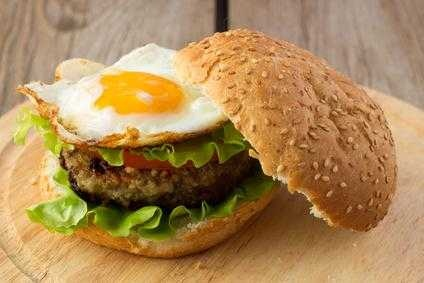hamburger: (12, 23, 397, 257)
